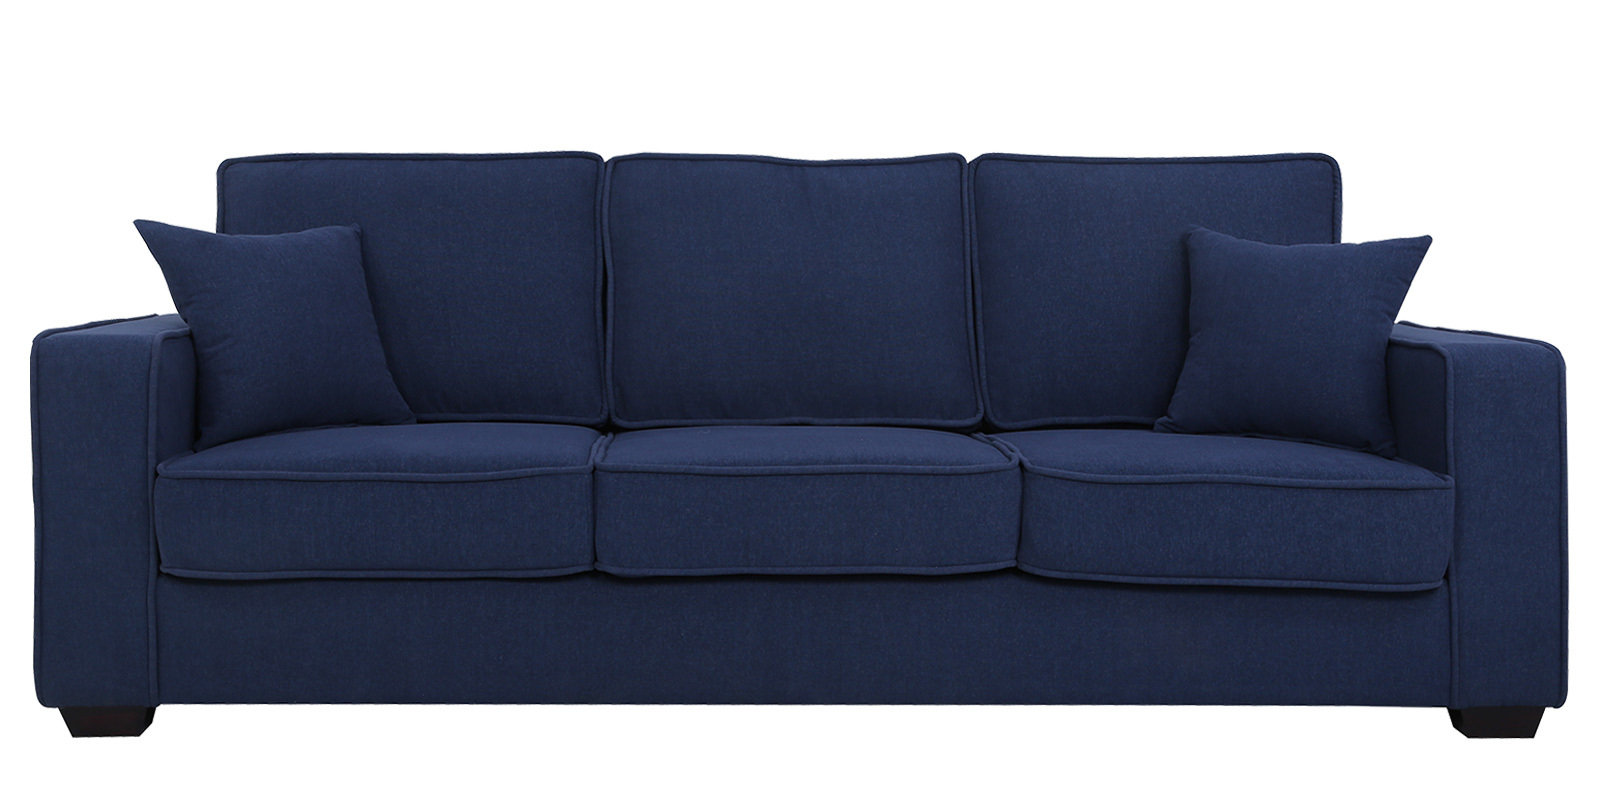Hugo Three Seater Sofa in Navy Blue Colour by CasaCraft: (14, 129, 1593, 774)
